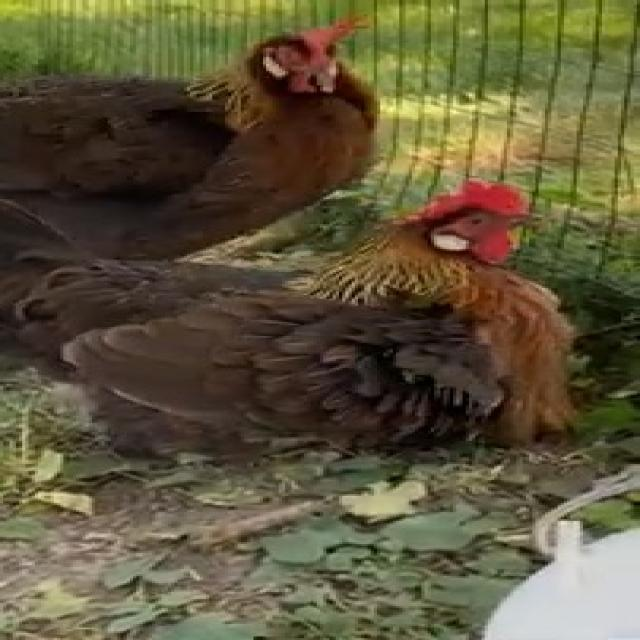self preening: (16, 163, 602, 473), (0, 16, 402, 206)
